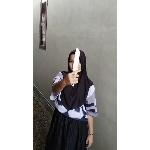Pisau: (67, 44, 85, 88)
